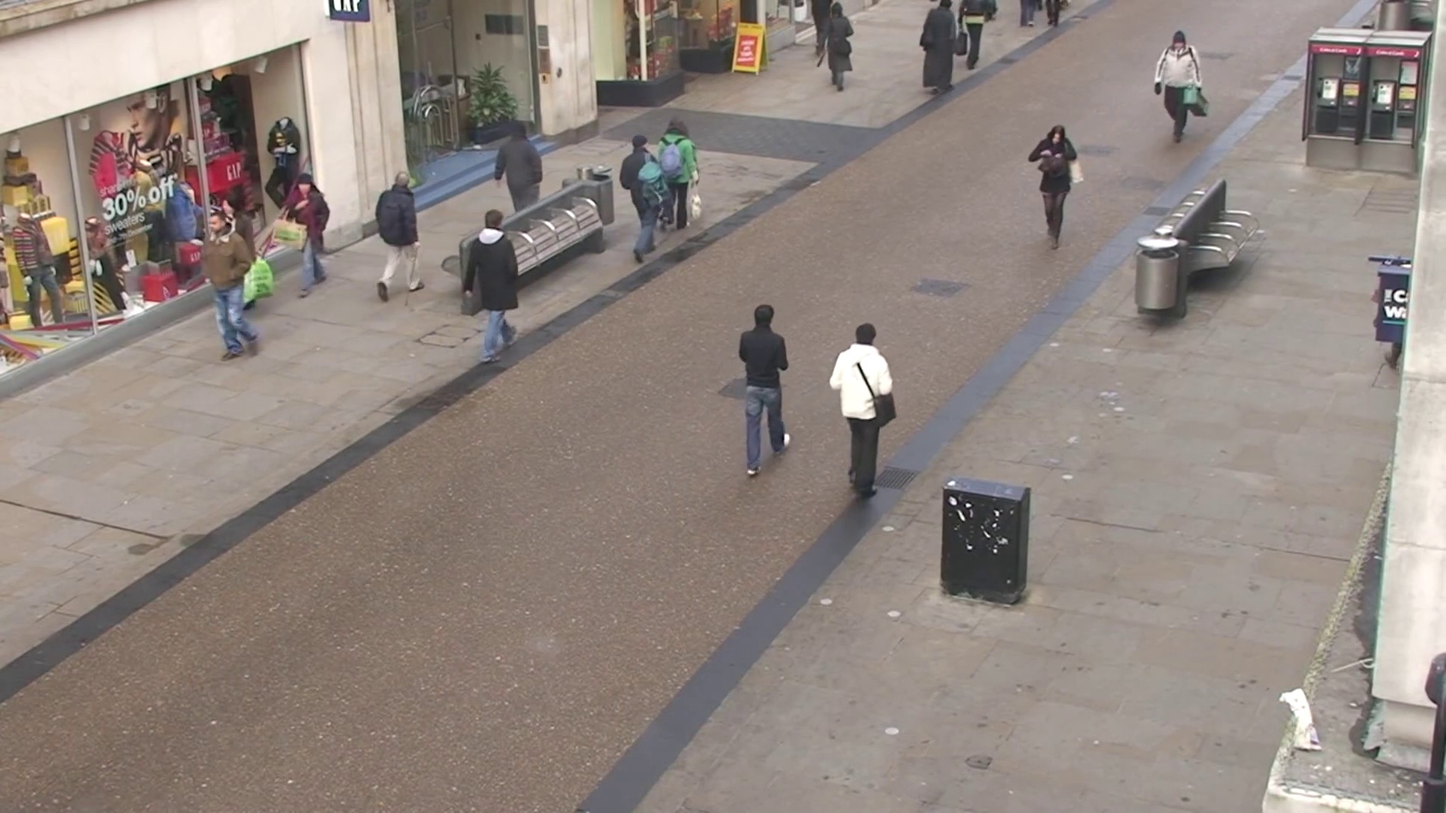person: (830, 322, 896, 502), (474, 111, 558, 237), (198, 202, 263, 359), (459, 209, 521, 365), (737, 303, 791, 470), (922, 0, 1004, 86), (373, 169, 424, 302), (1027, 123, 1081, 247), (1152, 30, 1207, 145), (282, 174, 331, 291), (621, 132, 663, 261), (657, 119, 699, 232), (917, 0, 957, 95), (819, 3, 856, 92)
